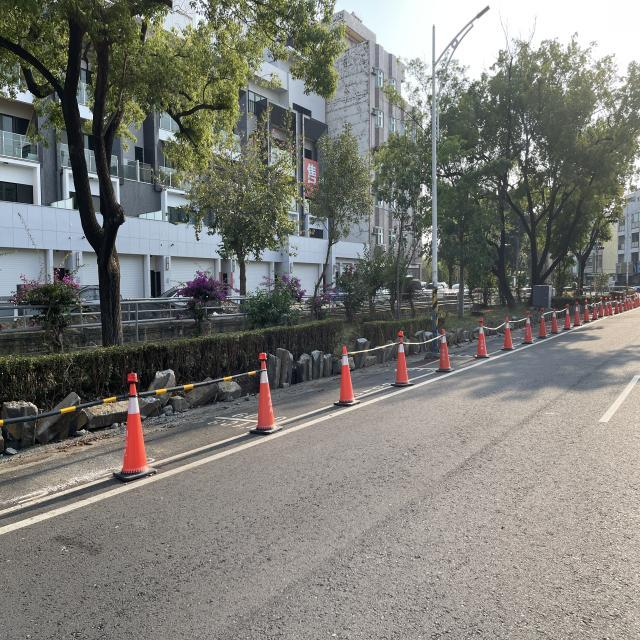traffic cone: (112, 371, 158, 483), (249, 352, 283, 436), (334, 344, 361, 407), (391, 330, 415, 387), (434, 328, 455, 373), (473, 319, 491, 359), (500, 317, 515, 351), (521, 316, 534, 345), (572, 299, 583, 327), (536, 315, 548, 338), (549, 311, 559, 335)
